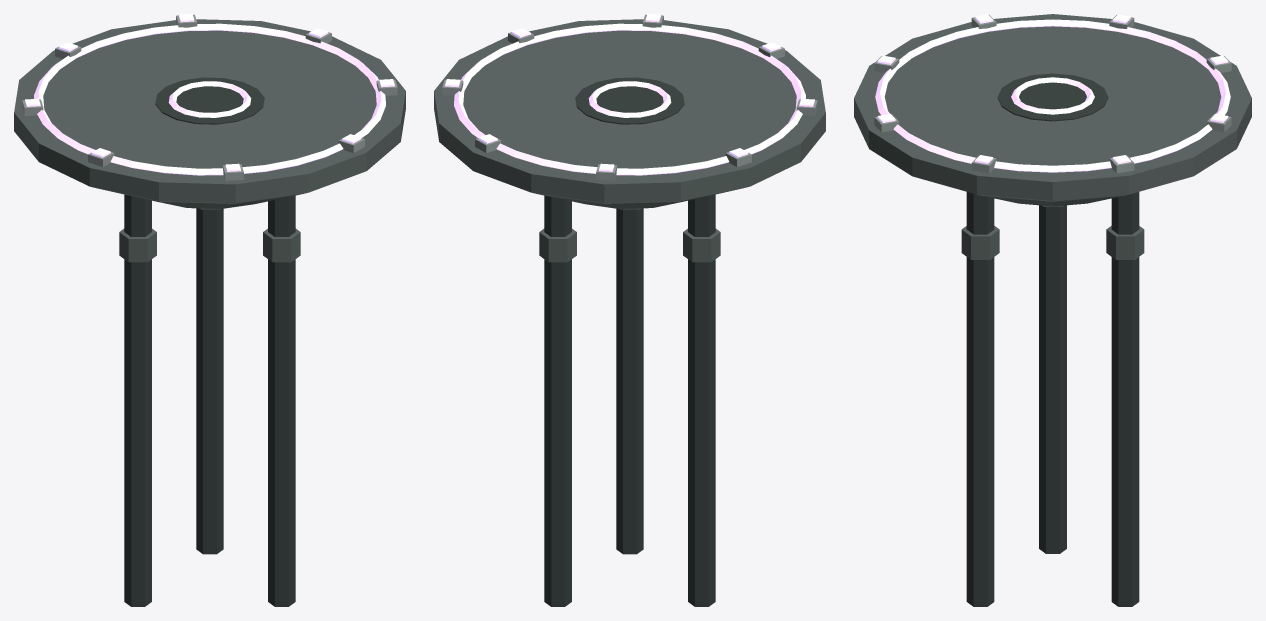
Rendered from plataforma-servico.glb.
3 views of the same model, side by side, from view 1: azimuth 30°, elevation 25°; view 2: azimuth 150°, elevation 25°; view 3: azimuth 270°, elevation 25° (orthographic).
Visible parts, largest first — view 1: plataforma-servico; view 2: plataforma-servico; view 3: plataforma-servico.
Boxes of the visible parts, x1=… form: plataforma-servico: x1=14, y1=14, x2=405, y2=606; plataforma-servico: x1=434, y1=14, x2=825, y2=606; plataforma-servico: x1=854, y1=14, x2=1251, y2=606.
Size of the model in its own units: 46 by 63.23 by 46.
